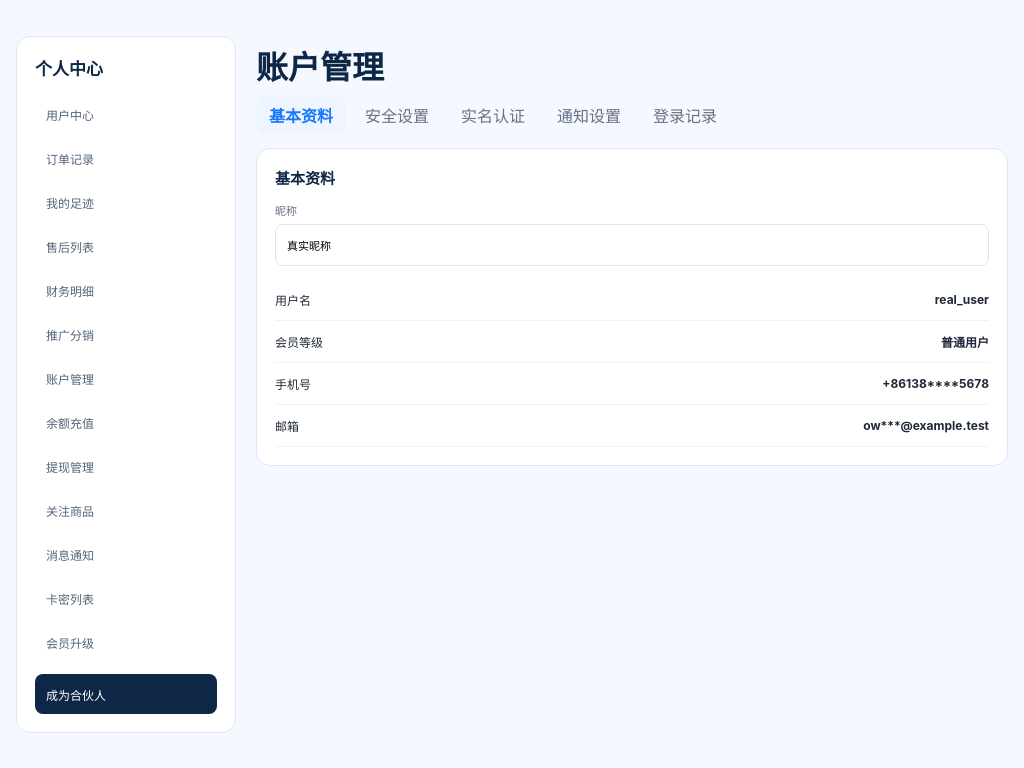
it: 账户管理读取真实账号与联系方式且不再显示本地假交易密码
Expected: the field showing "真实昵称" is shown, [275, 224, 989, 266]
Expected: the text "+86138****5678" is shown, [882, 376, 989, 391]
Click the button "安全设置". click: (397, 115)
box: [352, 96, 442, 134]
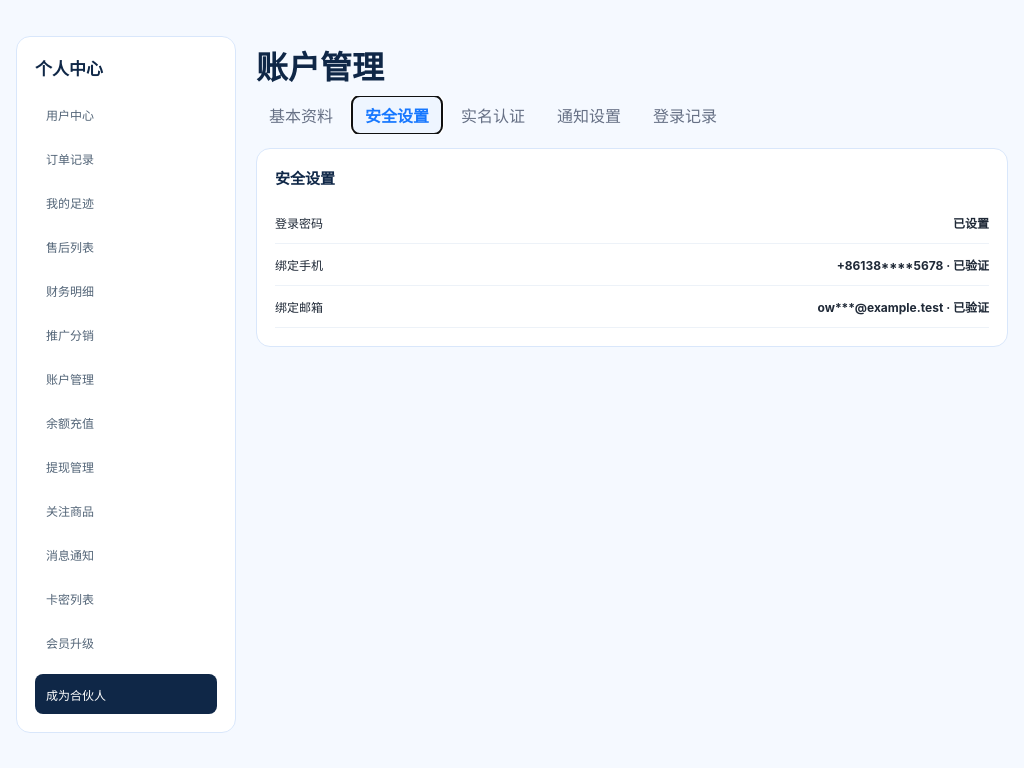
Expected: the text "登录密码" is shown, [275, 214, 323, 231]
Expected: the text "已设置" is shown, [953, 214, 989, 231]
